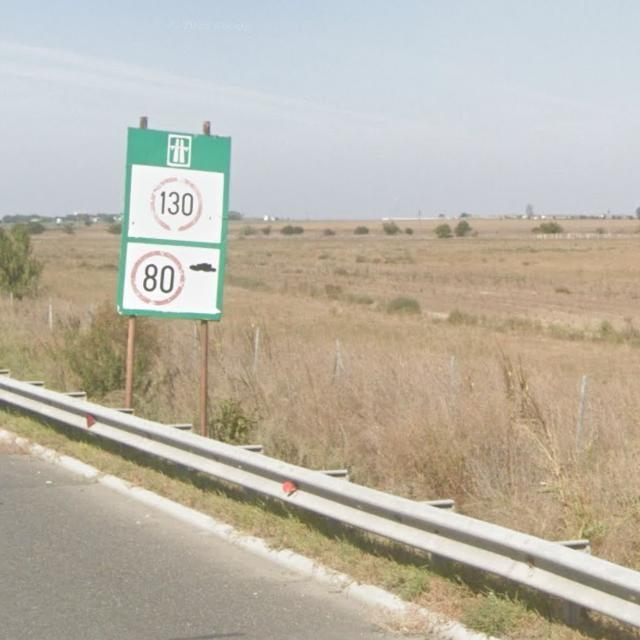forb_speed_over_80: (131, 251, 185, 306)
